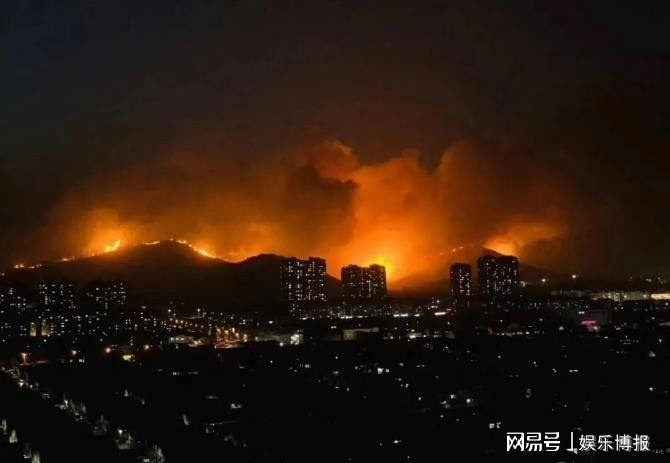fire: (361, 248, 398, 277), (485, 234, 519, 256), (190, 240, 218, 259), (99, 237, 124, 253)
